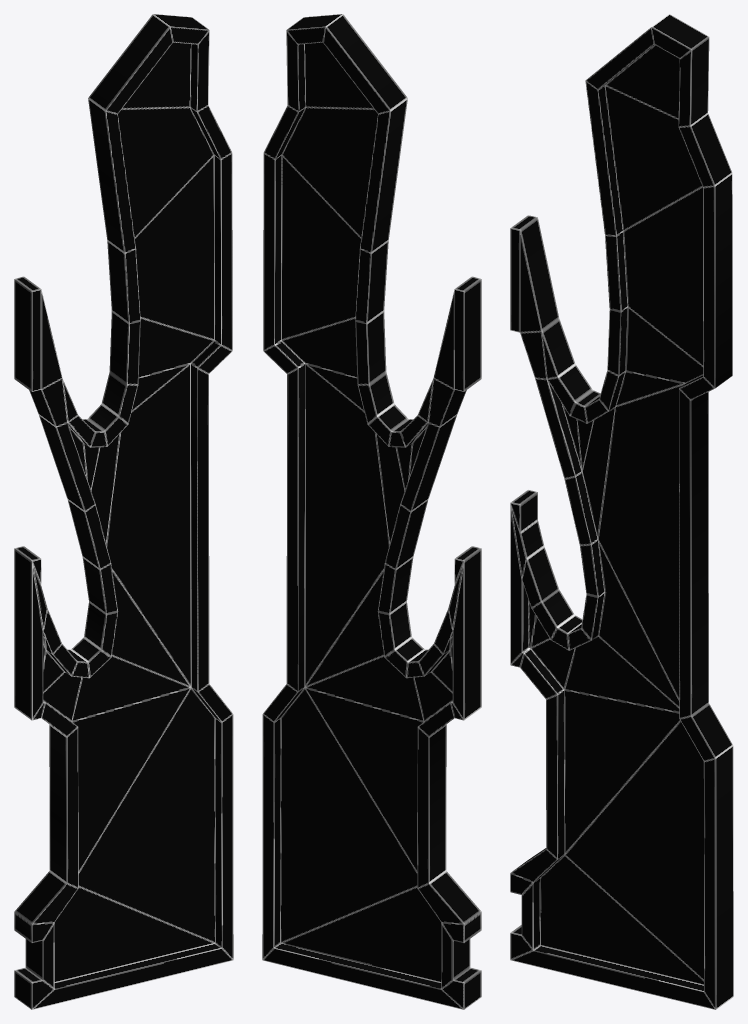
The picture shows the model from 3 angles, left to right: view 1: azimuth 30°, elevation 25°; view 2: azimuth 150°, elevation 25°; view 3: azimuth 330°, elevation 25°; orthographic projection.
Parts seen in each view (by area): view 1: DD_11; view 2: DD_11; view 3: DD_11.
Boxes of the visible parts, <box> form: DD_11: <box>14,14,233,1009</box>; DD_11: <box>262,14,481,1009</box>; DD_11: <box>510,14,733,1009</box>.
Size of the model in its own units: 1000 by 4500 by 150.
1 material, 1 textured.
